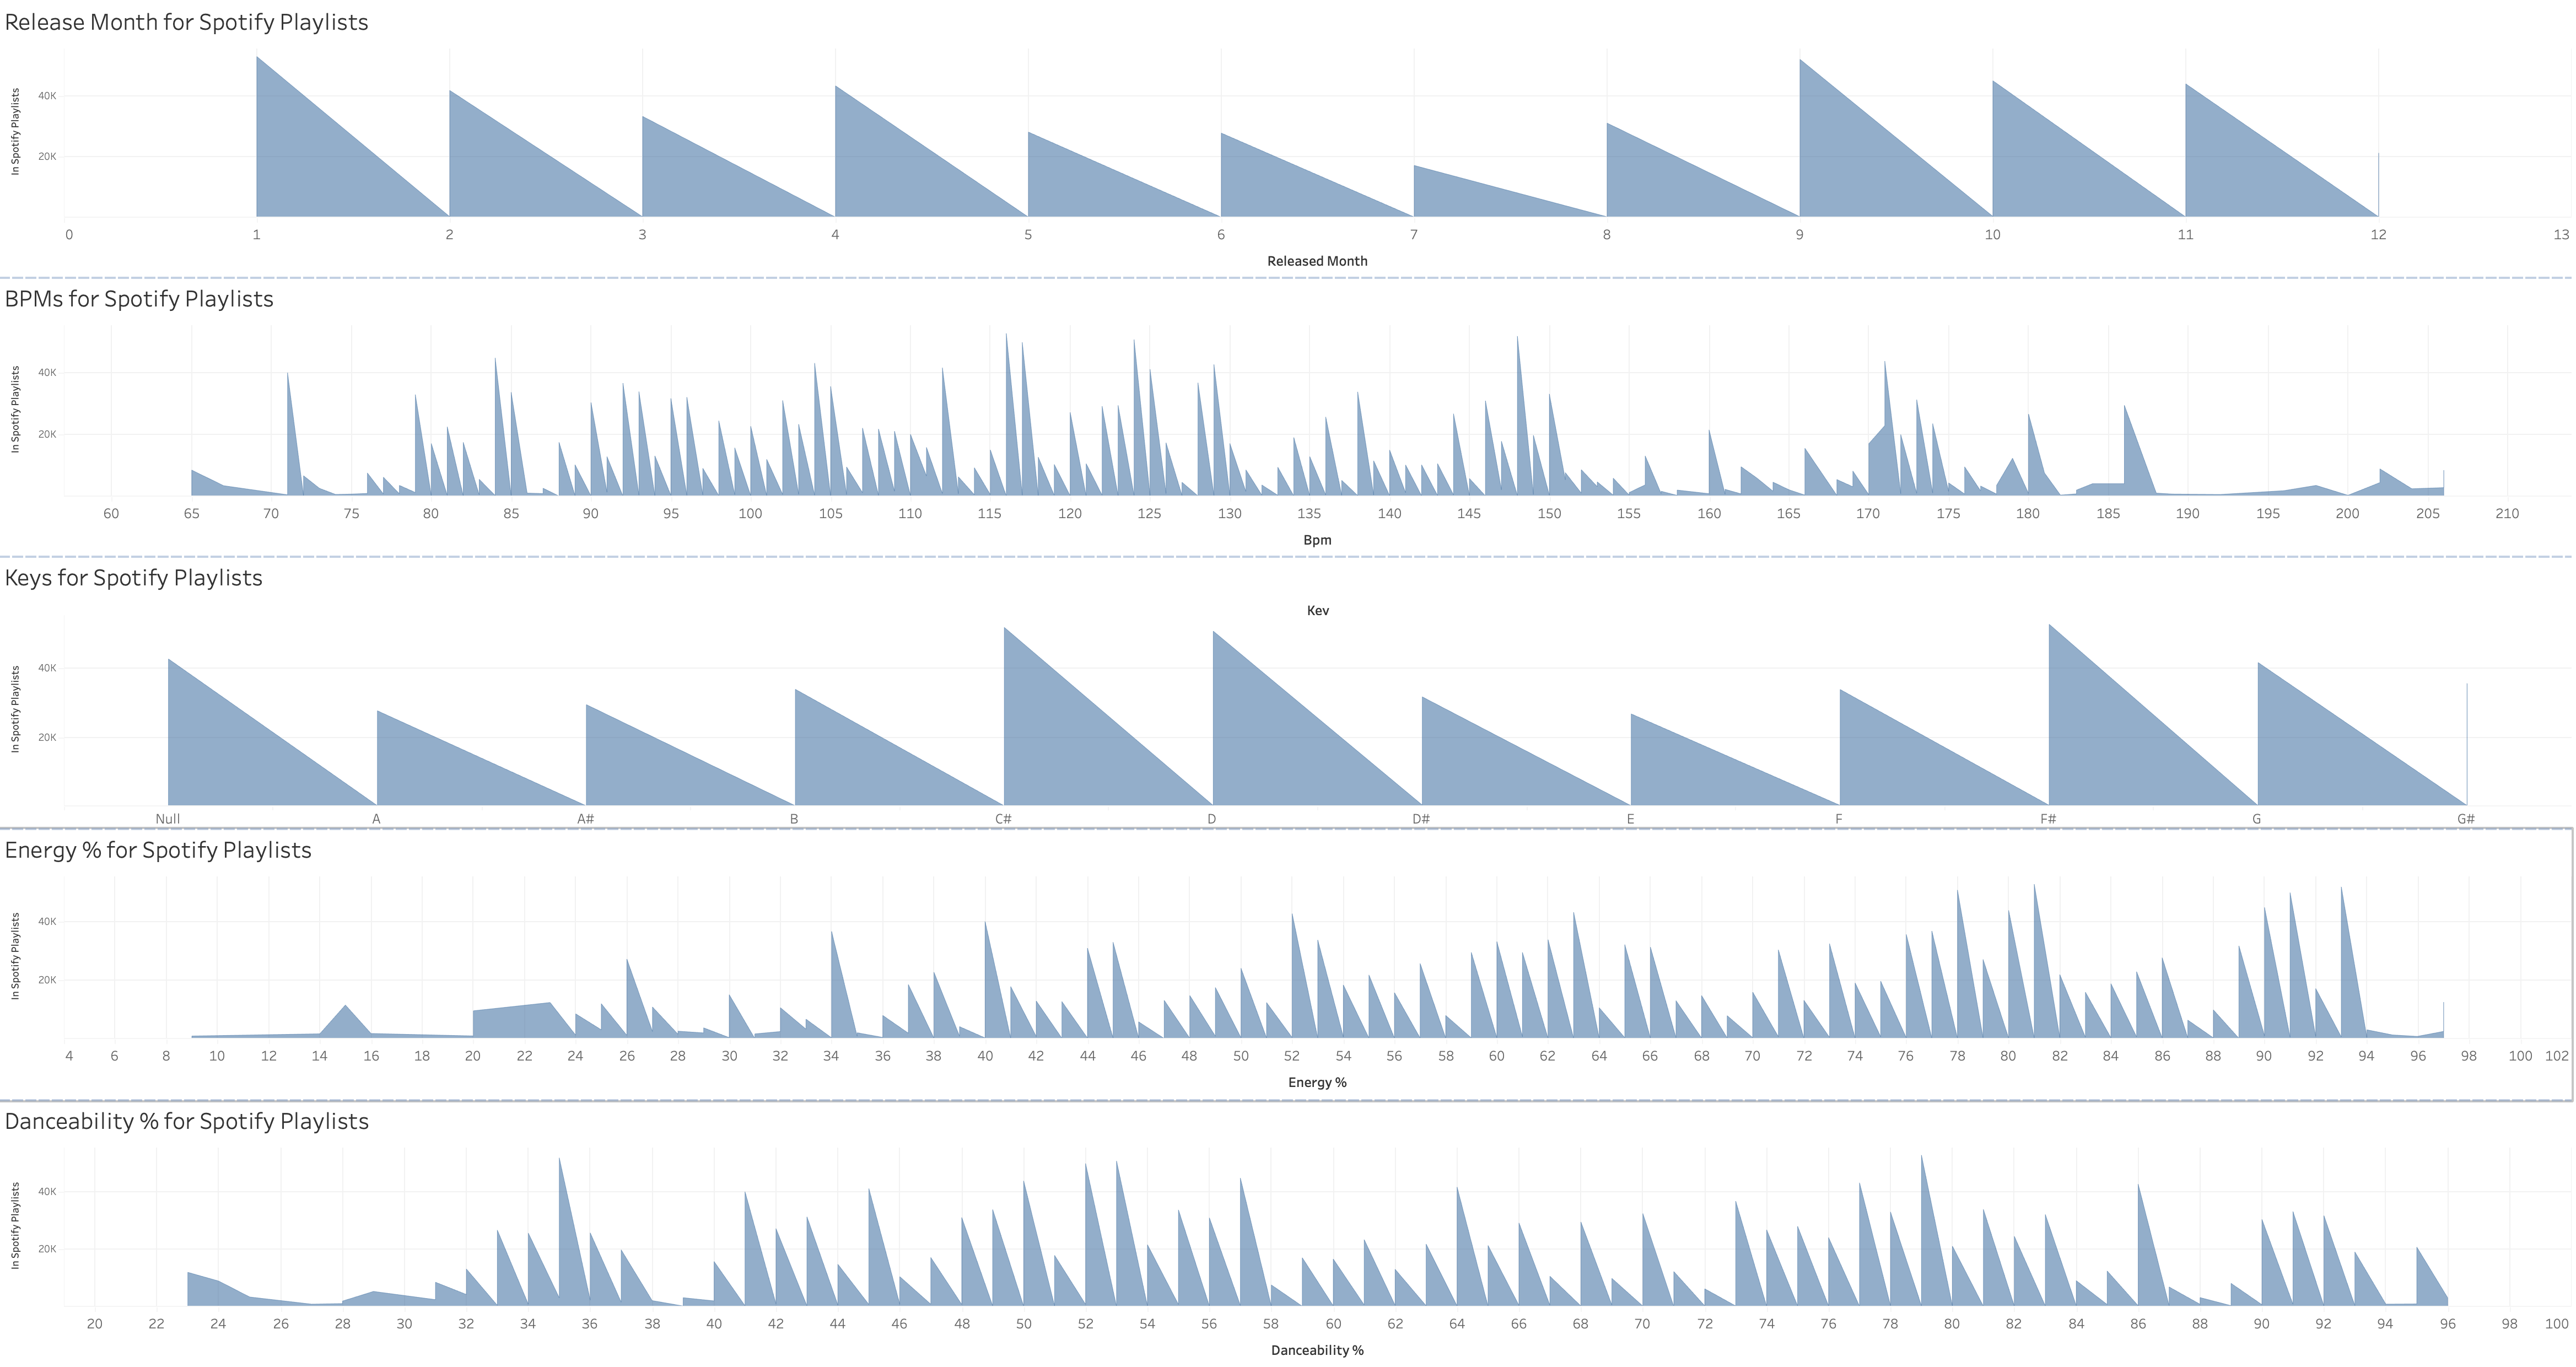

What the dashboard file says about the page in this screenshot:
{"tool":"tableau","page":{"name":"Stats for Spotify Playlists","canvas":[1000,1000],"units":"permille","ordinal":2},"visuals":[{"type":"worksheet","title":"Release Month for Spotify Playlists","mark":"Area","rows":["in_spotify_playlists"],"cols":["released_month"],"box":[3.4,6.4,993.2,200.4]},{"type":"worksheet","title":"BPMs for Spotify Playlists","mark":"Area","rows":["in_spotify_playlists"],"cols":["bpm"],"box":[3.4,206.7,993.2,201.6]},{"type":"worksheet","title":"Keys for Spotify Playlists","mark":"Area","rows":["in_spotify_playlists"],"cols":["key"],"box":[3.4,408.3,993.2,196.7]},{"type":"worksheet","title":"Energy % for Spotify Playlists","mark":"Area","rows":["in_spotify_playlists"],"cols":["energy_%"],"box":[3.4,605,993.2,195.5]},{"type":"worksheet","title":"Danceability % for Spotify Playlists","mark":"Area","rows":["in_spotify_playlists"],"cols":["danceability_%"],"box":[3.4,800.5,993.2,193.1]}]}

Visuals, with their boxes on the dashboard's canvas, which has no fixed pixel size, in thousandths of its width and height (x1, y1, x2, y2). These are canvas units, not pixel positions in the 2576x1367 screenshot, which may show the page scaled, cropped or inside an application window:
"Release Month for Spotify Playlists" worksheet (Area marks): 3:6:997:207
"BPMs for Spotify Playlists" worksheet (Area marks): 3:207:997:408
"Keys for Spotify Playlists" worksheet (Area marks): 3:408:997:605
"Energy % for Spotify Playlists" worksheet (Area marks): 3:605:997:800
"Danceability % for Spotify Playlists" worksheet (Area marks): 3:800:997:994
